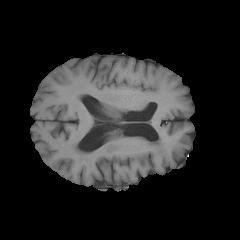glioma: (77, 137, 166, 168)
